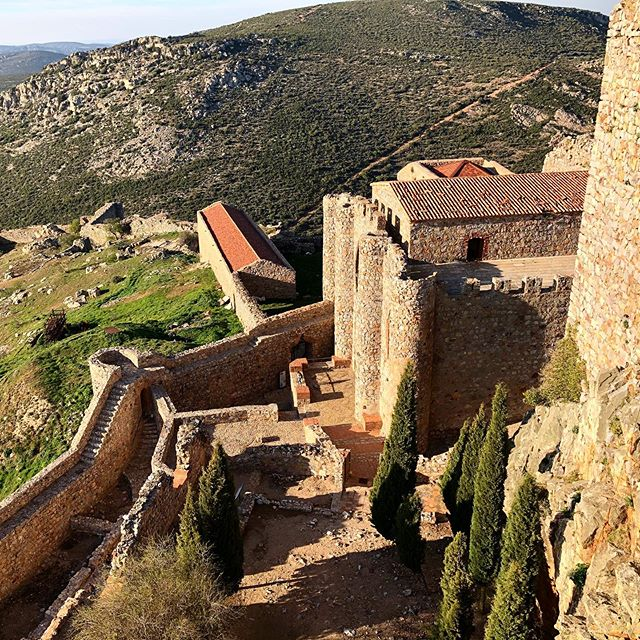building: (339, 175, 599, 453), (197, 197, 305, 310)
mountain: (32, 1, 617, 94)
